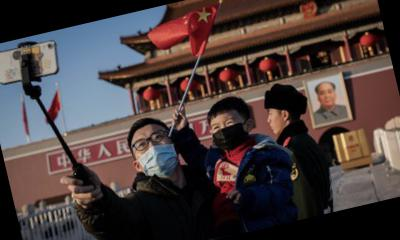with_mask: (130, 125, 182, 182), (208, 113, 250, 152)
without_mask: (265, 106, 286, 135)
